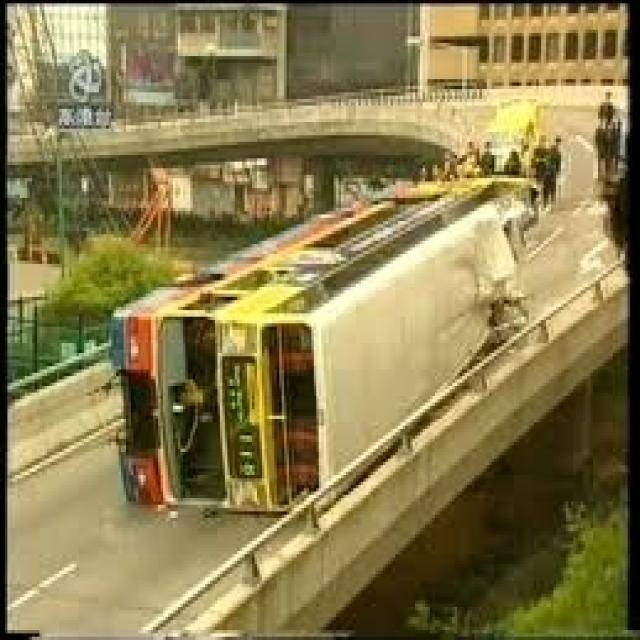accident: (95, 152, 544, 511)
